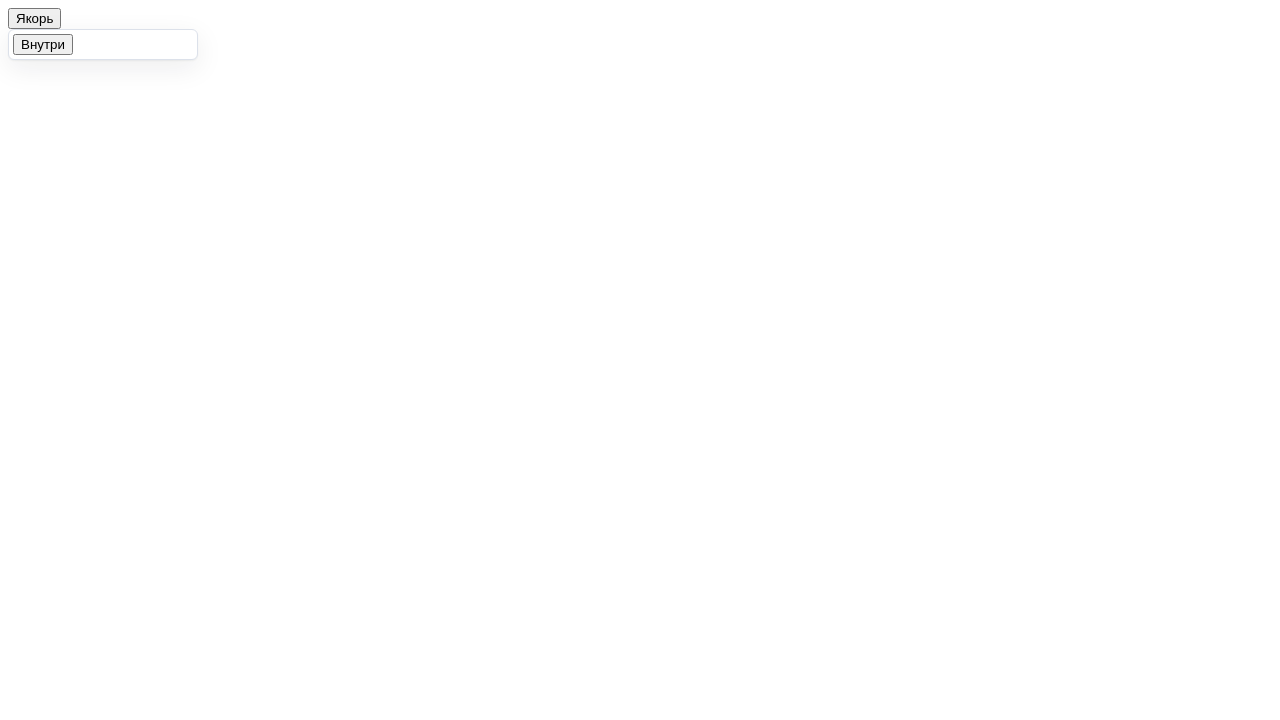
Test: Tooltip › Escape при открытом Popover прячет тултип
The width and height of the screenshot is (1280, 720).
Hover over the button "Внутри" at {"x": 43, "y": 44}, box [13,34,73,55]
Wait 250 ms
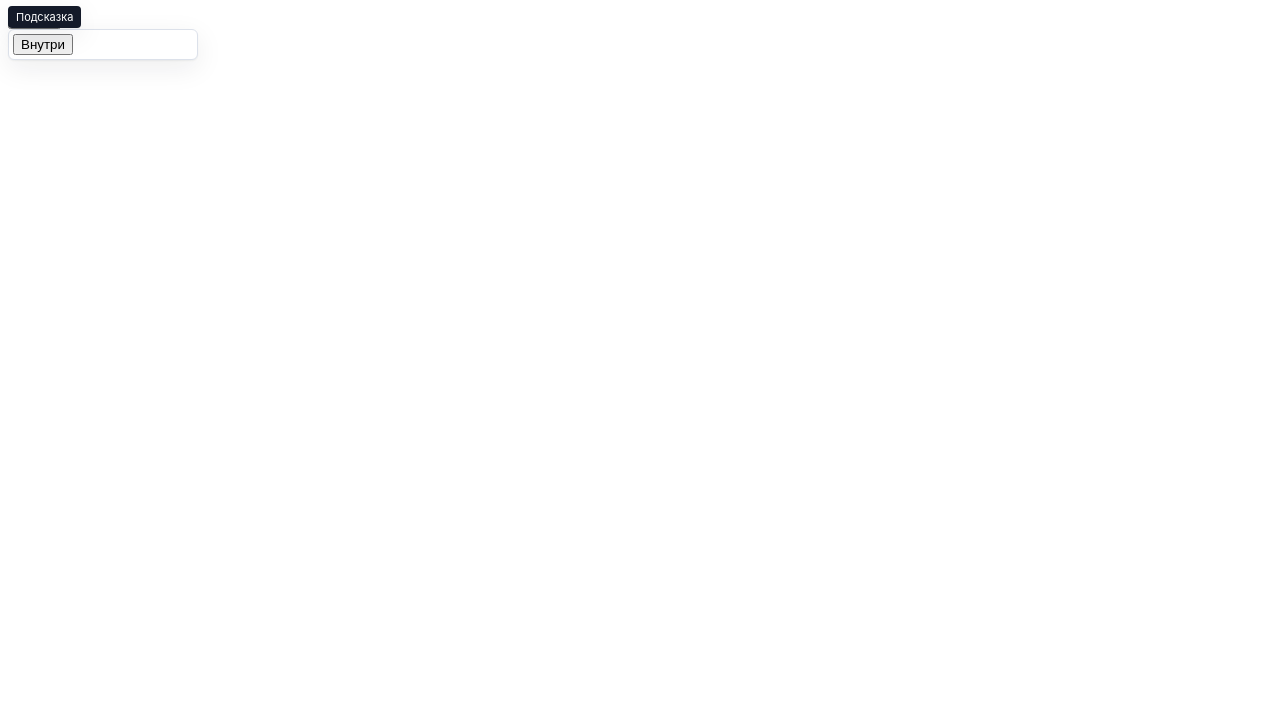
Now the tooltip "Подсказка" is shown, box [8,6,81,28]
Press Escape
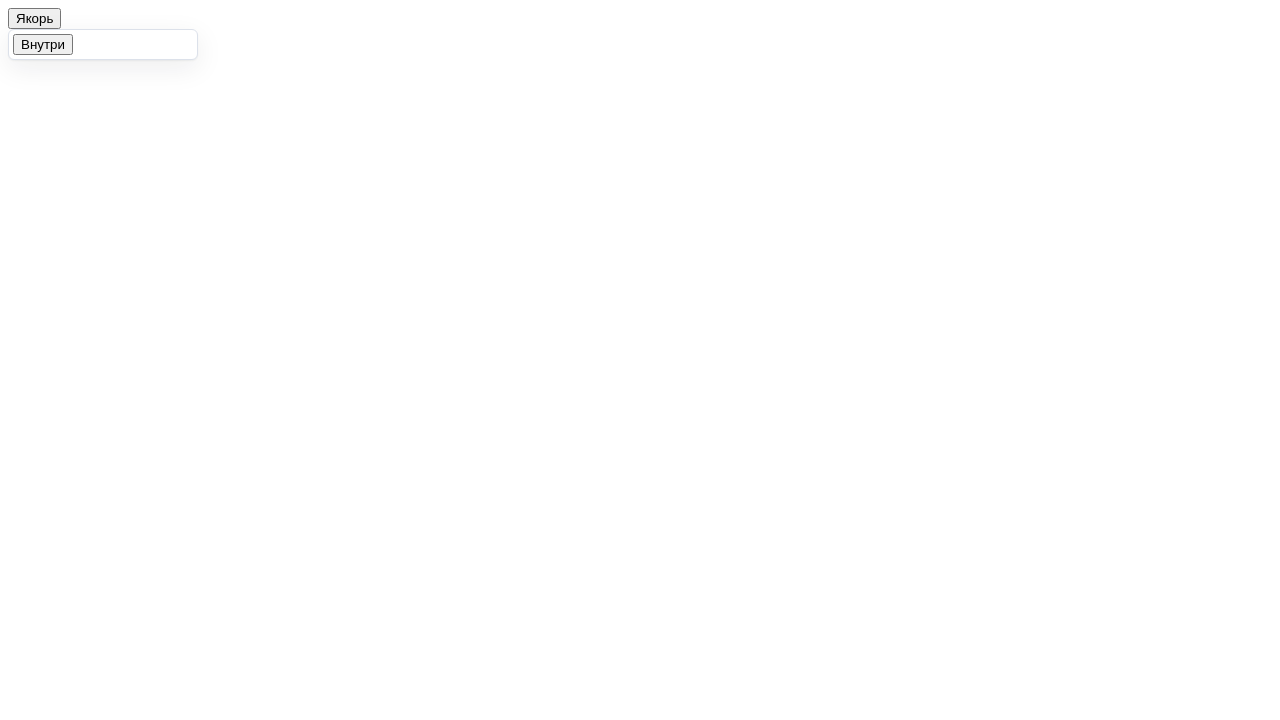
Now the tooltip "Подсказка" is gone
